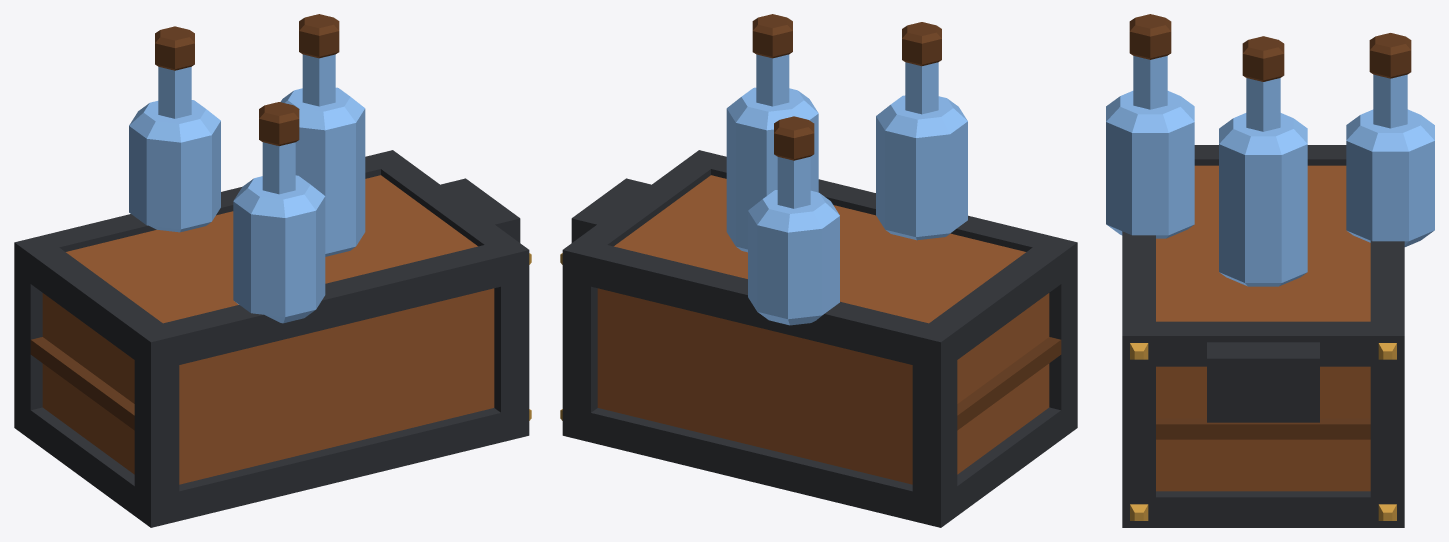
File: BubbleKit6.obj
The picture shows the model from 3 angles, left to right: view 1: azimuth 30°, elevation 25°; view 2: azimuth 150°, elevation 25°; view 3: azimuth 270°, elevation 25°; orthographic projection. The views are drawn at different scales.
Parts seen in each view (by area): view 1: BubbleKit6; view 2: BubbleKit6; view 3: BubbleKit6.
Boxes of the visible parts, x1=… form: BubbleKit6: x1=14, y1=14, x2=531, y2=527; BubbleKit6: x1=560, y1=14, x2=1077, y2=527; BubbleKit6: x1=1106, y1=14, x2=1434, y2=527.
Size of the model in its own units: 0.347 by 0.3225 by 0.2328.
